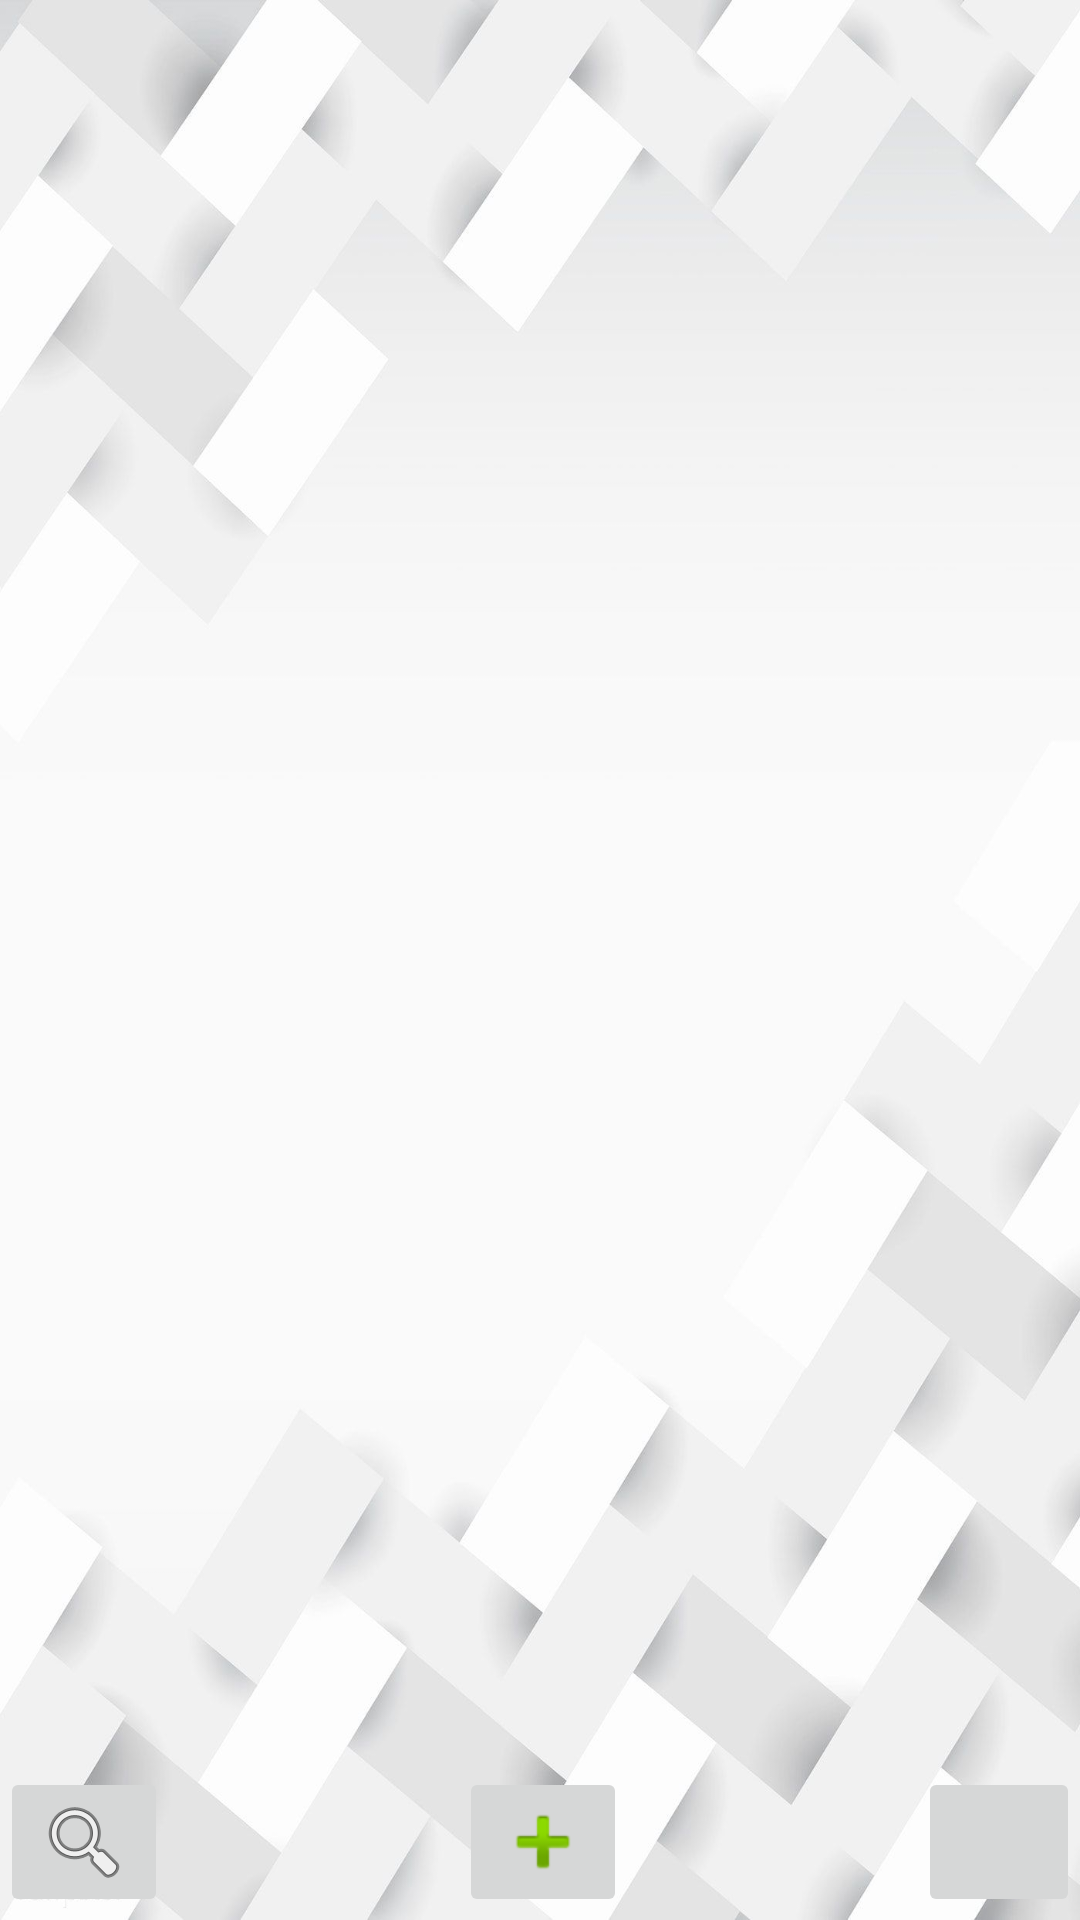

Locate icon controls on the screen. Image size 1080*1920, boxes as [x1, y1, x2, y2].
add pictures: [459, 1767, 627, 1917]
search for recruiter and peers: [0, 1767, 168, 1917]
